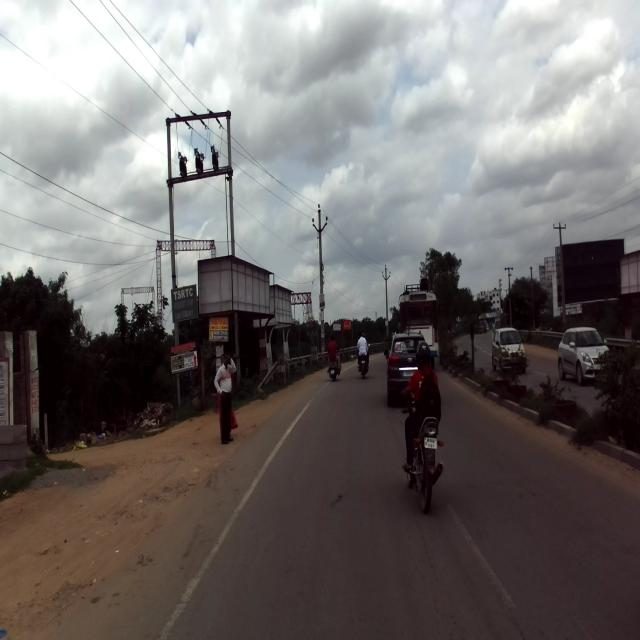motorcycle: (401, 389, 444, 514)
